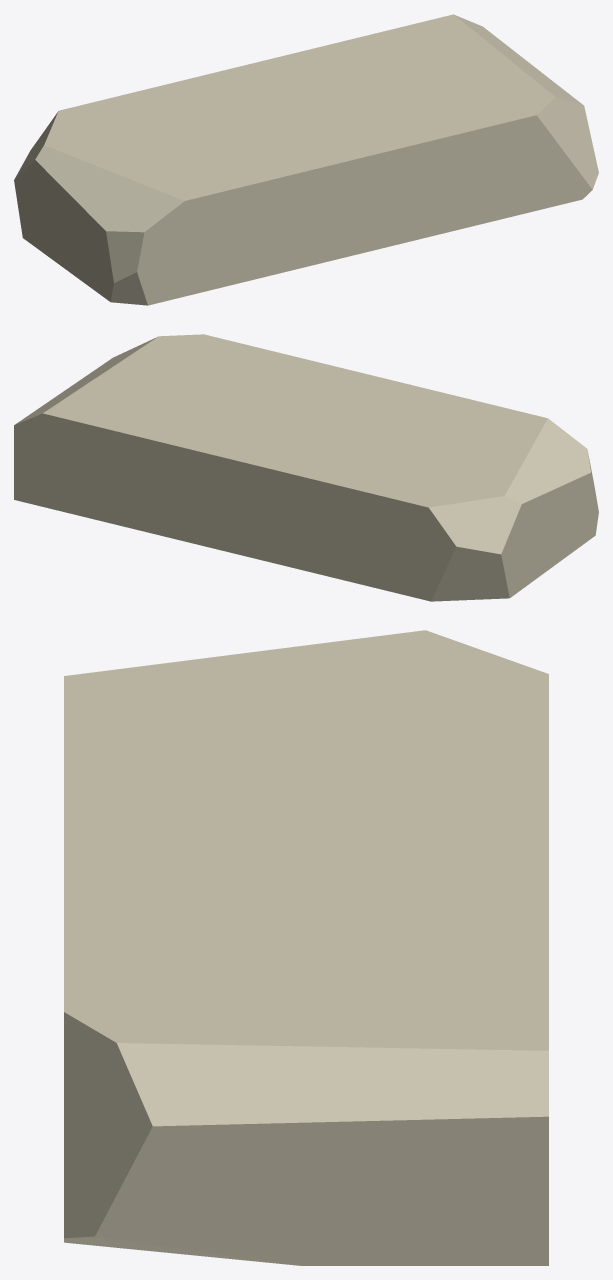
File: Stonehenge_05.fbx
The picture shows the model from 3 angles, top to bottom: view 1: azimuth 30°, elevation 25°; view 2: azimuth 150°, elevation 25°; view 3: azimuth 270°, elevation 25°; orthographic projection. The views are drawn at different scales.
Parts seen in each view (by area): view 1: Stonehenge_05; view 2: Stonehenge_05; view 3: Stonehenge_05.
Boxes of the visible parts, box(x1,y1,x2,y2) form: Stonehenge_05: box(14, 14, 598, 305); Stonehenge_05: box(14, 334, 598, 601); Stonehenge_05: box(64, 630, 548, 1265).
Size of the model in its own units: 450 by 85 by 200.
